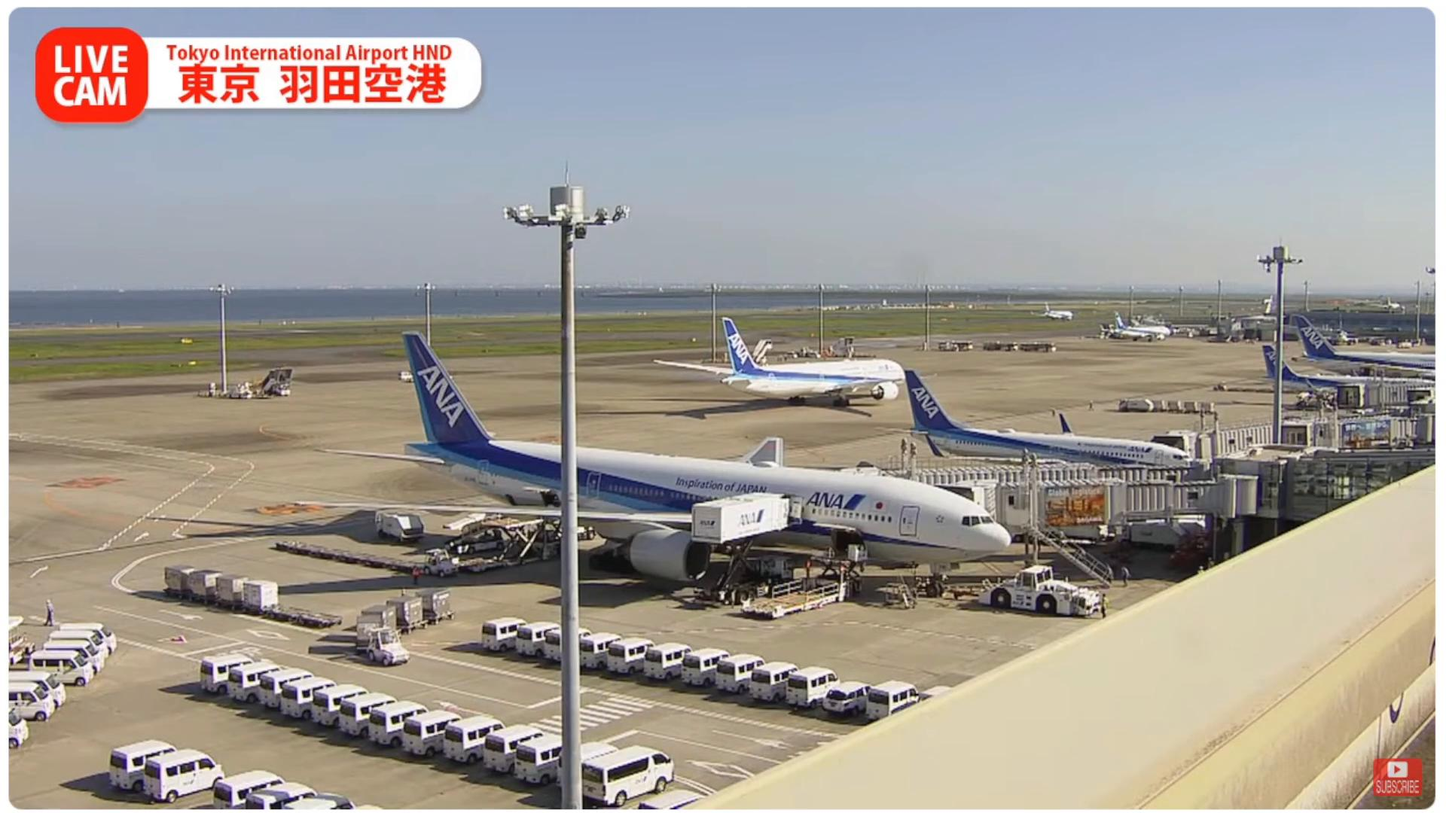APS: (982, 565, 1107, 615)
Aerobridge: (880, 463, 1198, 520), (990, 479, 1258, 539)
Airplane: (308, 328, 1018, 599)
Baggage truck: (376, 510, 429, 539)
Catering: (686, 489, 792, 606)
Dolly: (162, 563, 348, 636), (357, 587, 455, 652), (271, 536, 428, 574)
JCPL: (738, 555, 854, 623), (480, 504, 562, 572)
Skyloader: (444, 505, 507, 558)
Tractor: (363, 626, 408, 666), (415, 549, 460, 576)
Window: (1281, 462, 1437, 524)
